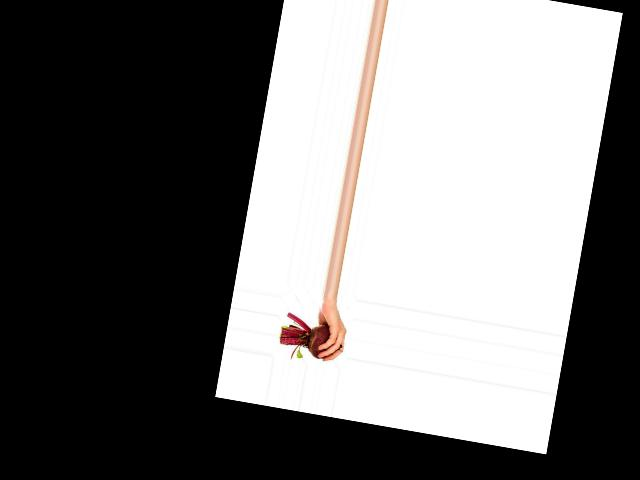beet: (276, 311, 347, 367)
